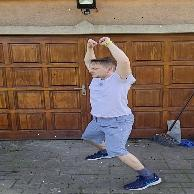jumping_jacks: (63, 33, 169, 188)
